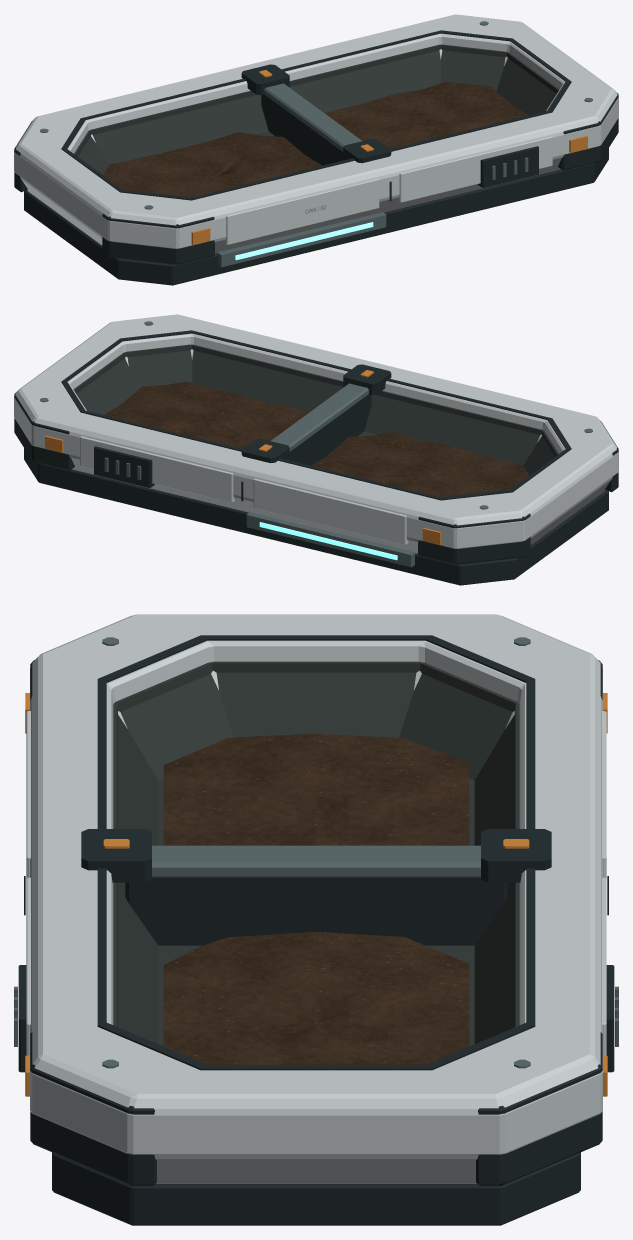
The model's file is Saksı 1x2.fbx.
3 renders of one model, top to bottom at view 1: azimuth 30°, elevation 25°; view 2: azimuth 150°, elevation 25°; view 3: azimuth 270°, elevation 25°, orthographic. The views are drawn at different scales.
Visible parts, largest first — view 1: CAN_1x2_DIVIDED_GAME; view 2: CAN_1x2_DIVIDED_GAME; view 3: CAN_1x2_DIVIDED_GAME.
Part boxes in pixels (left/top/right/bottom): CAN_1x2_DIVIDED_GAME: left=14, top=14, right=618, bottom=285; CAN_1x2_DIVIDED_GAME: left=14, top=314, right=618, bottom=585; CAN_1x2_DIVIDED_GAME: left=14, top=614, right=618, bottom=1225.
Bounding box in the file's own units: 3.95 × 0.555 × 2.06.
